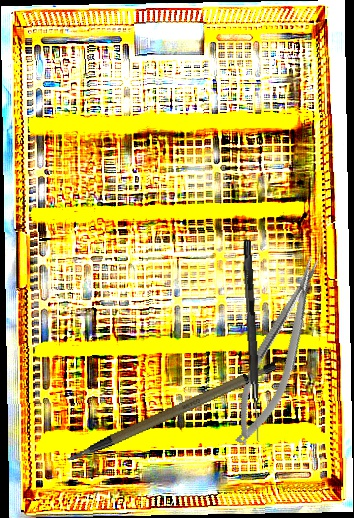Hook Surgical: (240, 239, 265, 443)
Needle Holder: (219, 251, 340, 452)
Scalpel Handle: (55, 358, 286, 464)
